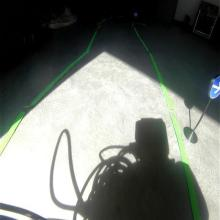right: (207, 73, 220, 100)
